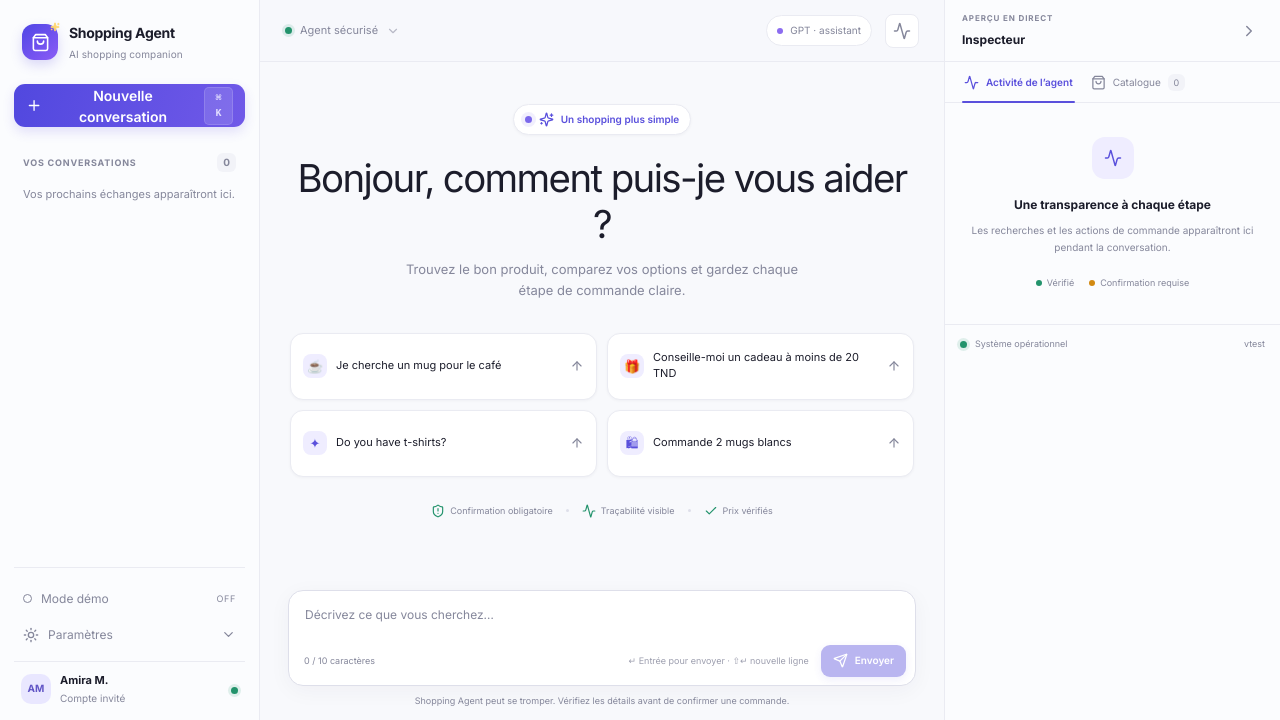
Test case: shopping flow › keeps Shift+Enter as a newline and enforces the server limit
Type "café" into the text box labelled "Décrivez ce que vous cherchez…" at x=602, y=616, box [289, 590, 915, 640]
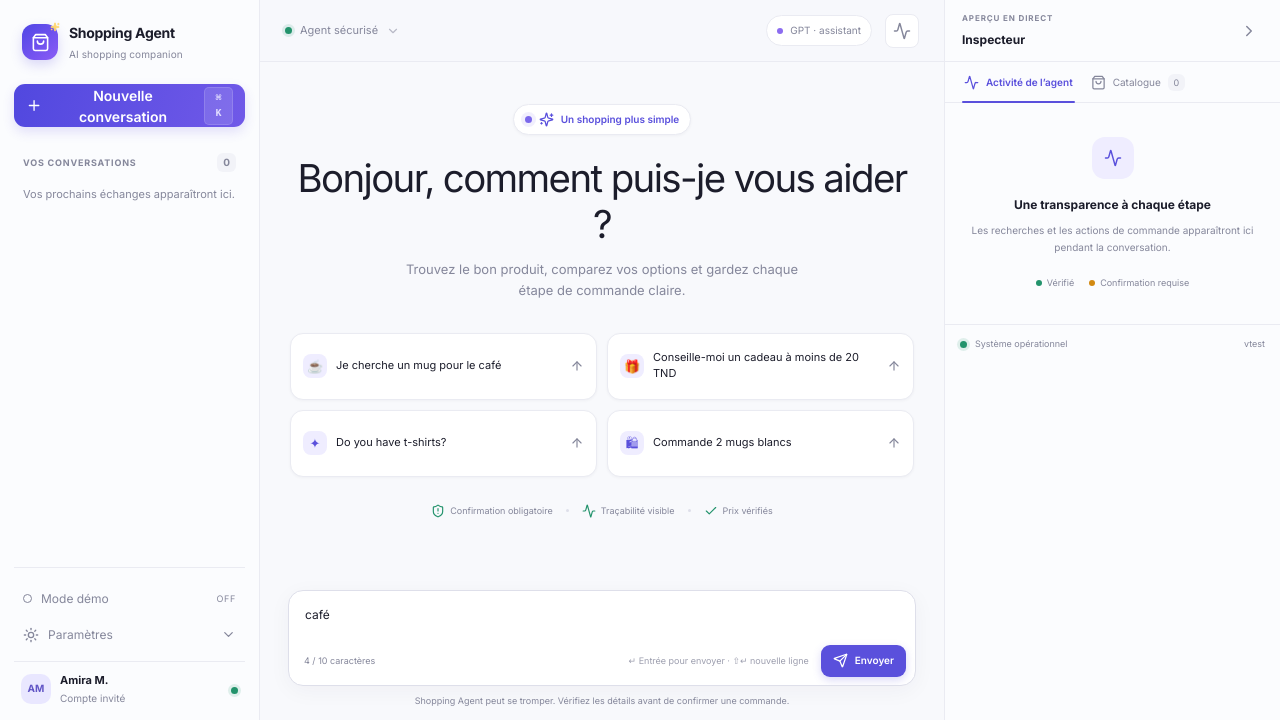
Press Enter in the text box named "Décrivez", box [289, 590, 915, 640]
Replace the text in the text box named "Décrivez" with "12345678901" at x=602, y=616, box [289, 590, 915, 640]
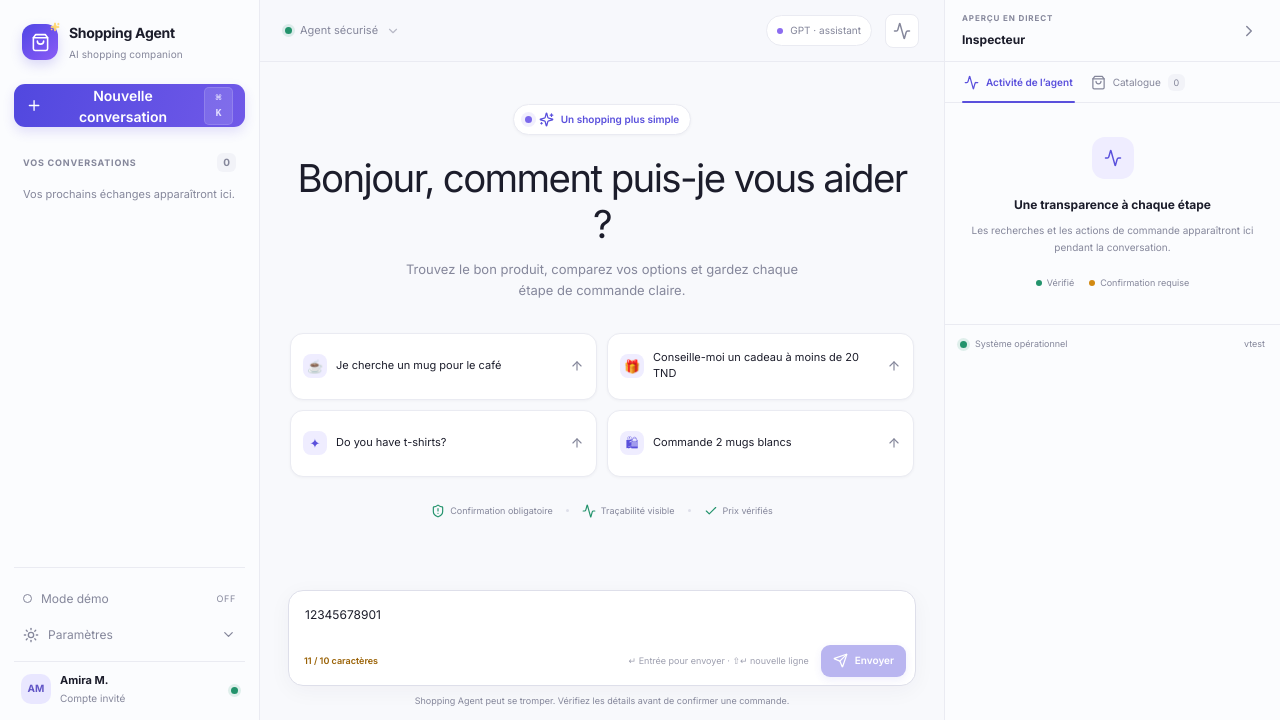
Check: the button "Envoyer" is disabled, box [821, 644, 906, 676]
